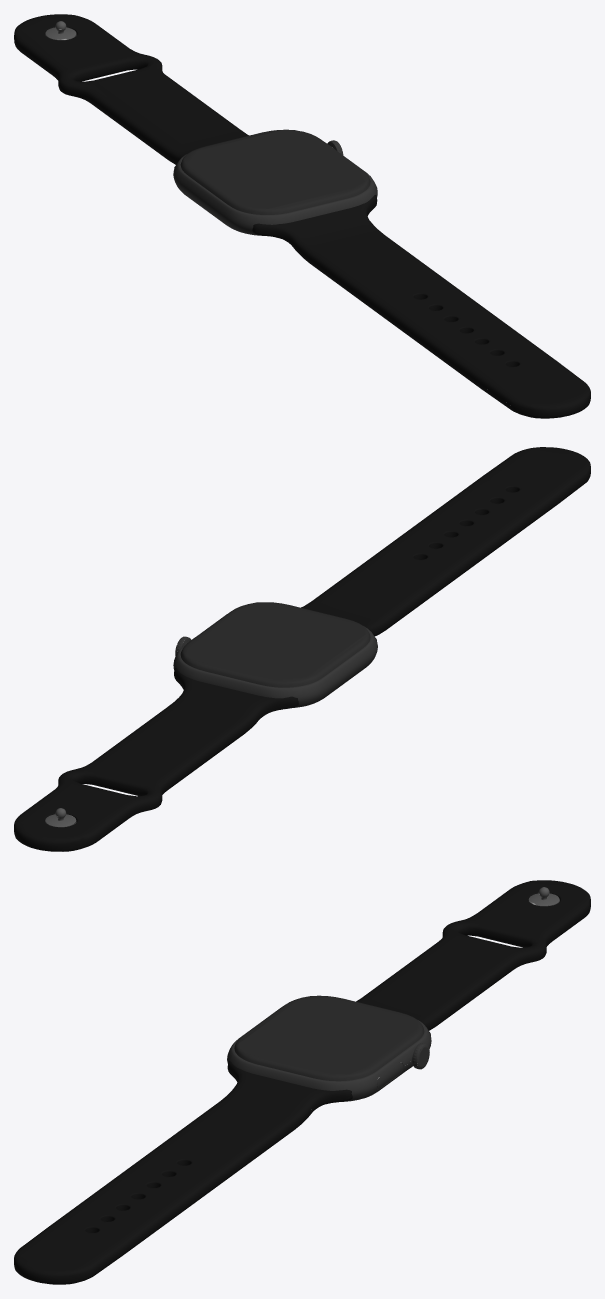
File: chasy-apple-watch-s11-46-jet-black-al-c-black-sb-m-l-meux4--05548.glb
The picture shows the model from 3 angles, top to bottom: view 1: azimuth 30°, elevation 25°; view 2: azimuth 150°, elevation 25°; view 3: azimuth 330°, elevation 25°; orthographic projection.
Visible parts, largest first — view 1: Apple Watch Series 11 - Jet Black; view 2: Apple Watch Series 11 - Jet Black; view 3: Apple Watch Series 11 - Jet Black.
Part boxes in pixels (x1,y1,x2,y2): Apple Watch Series 11 - Jet Black: (14,14,590,418); Apple Watch Series 11 - Jet Black: (14,447,590,851); Apple Watch Series 11 - Jet Black: (14,880,590,1284).
Size of the model in its own units: 1.95 by 0.4072 by 11.91.
1 material, 1 textured.
